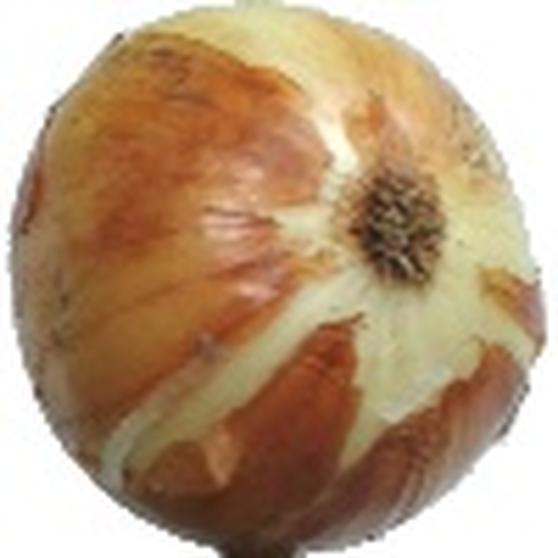onion: (18, 2, 541, 558)
